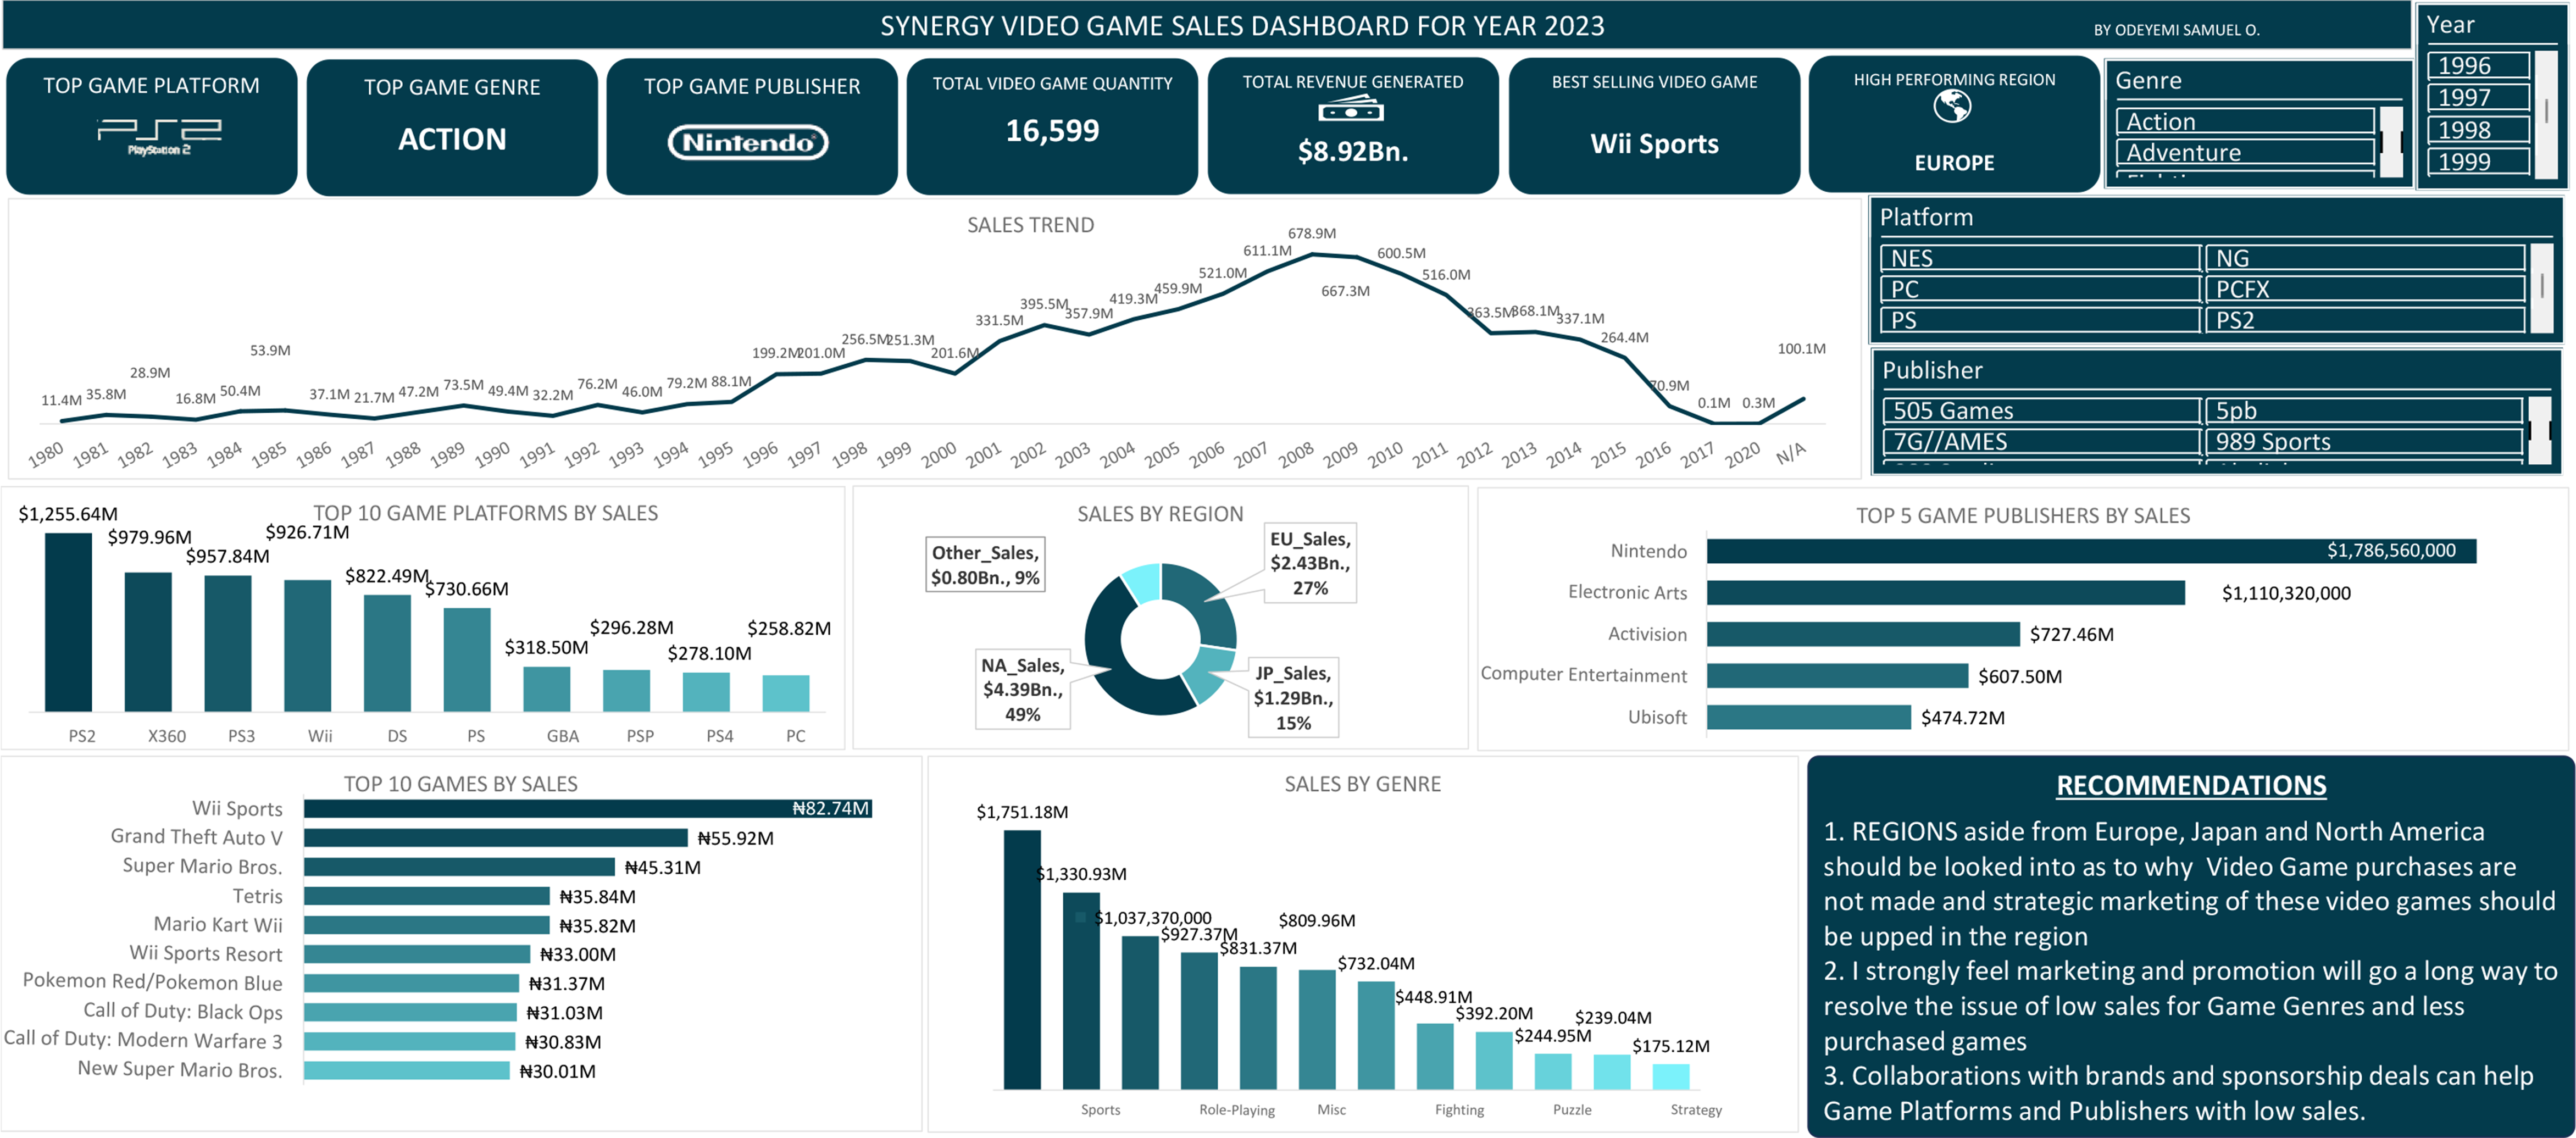

The dashboard page shown, as its layout file describes it:
{"tool":"powerbi","page":{"name":"Page 1","canvas":[1320,740],"ordinal":0},"visuals":[{"type":"image","box":[9.2,0,443.8,430.7],"z":0},{"type":"image","box":[464.2,0,442.7,430.5],"z":1},{"type":"image","box":[9.4,353.9,444,386.1],"z":2},{"type":"image","box":[464.2,353.9,442.7,386.1],"z":3},{"type":"image","box":[846.3,285.2,472.3,193.7],"z":4},{"type":"image","box":[920.3,441.3,325.6,282.5],"z":5},{"type":"image","box":[920.3,60.5,325.6,242.2],"z":6},{"type":"textbox","box":[13.5,8.1,1232.4,65.9],"z":7},{"type":"shape","box":[13.5,359.2,890.7,45.7],"z":8},{"type":"shape","box":[9.4,684.8,1236.5,45.7],"z":9}]}

Visuals, with their boxes on the page's 1320x740 design canvas (x1, y1, x2, y2). These are canvas units, not pixel positions in the 2576x1138 screenshot, which may show the page scaled, cropped or inside an application window:
image: (9,0,453,431)
image: (464,0,907,430)
image: (9,354,453,740)
image: (464,354,907,740)
image: (846,285,1319,479)
image: (920,441,1246,724)
image: (920,60,1246,303)
textbox: (14,8,1246,74)
shape: (14,359,904,405)
shape: (9,685,1246,730)
